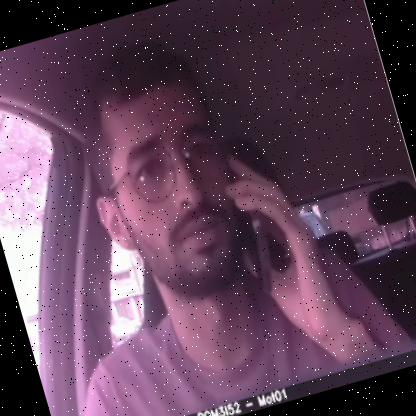phone: (212, 150, 292, 304)
